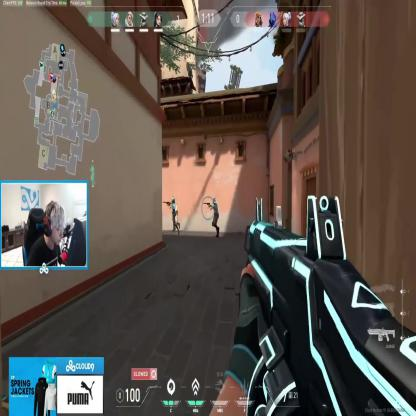enemy: (167, 195, 180, 235), (210, 196, 221, 238)
enemy_head: (171, 196, 175, 203), (212, 197, 216, 204)
